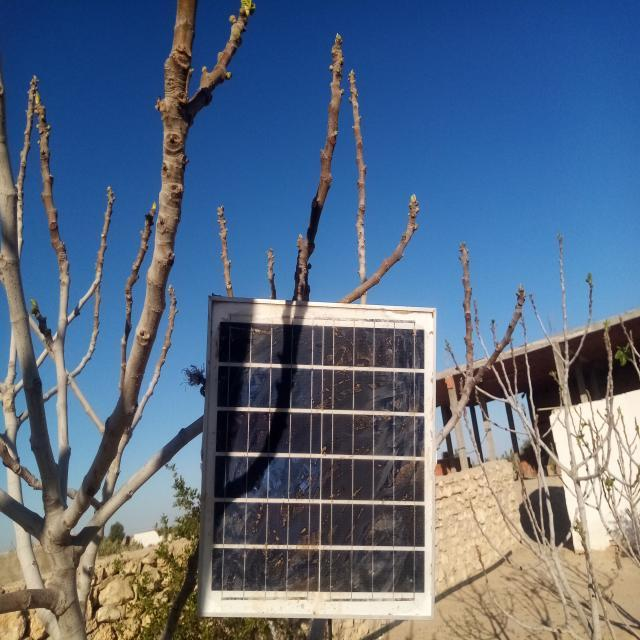faulty: (198, 298, 435, 617)
